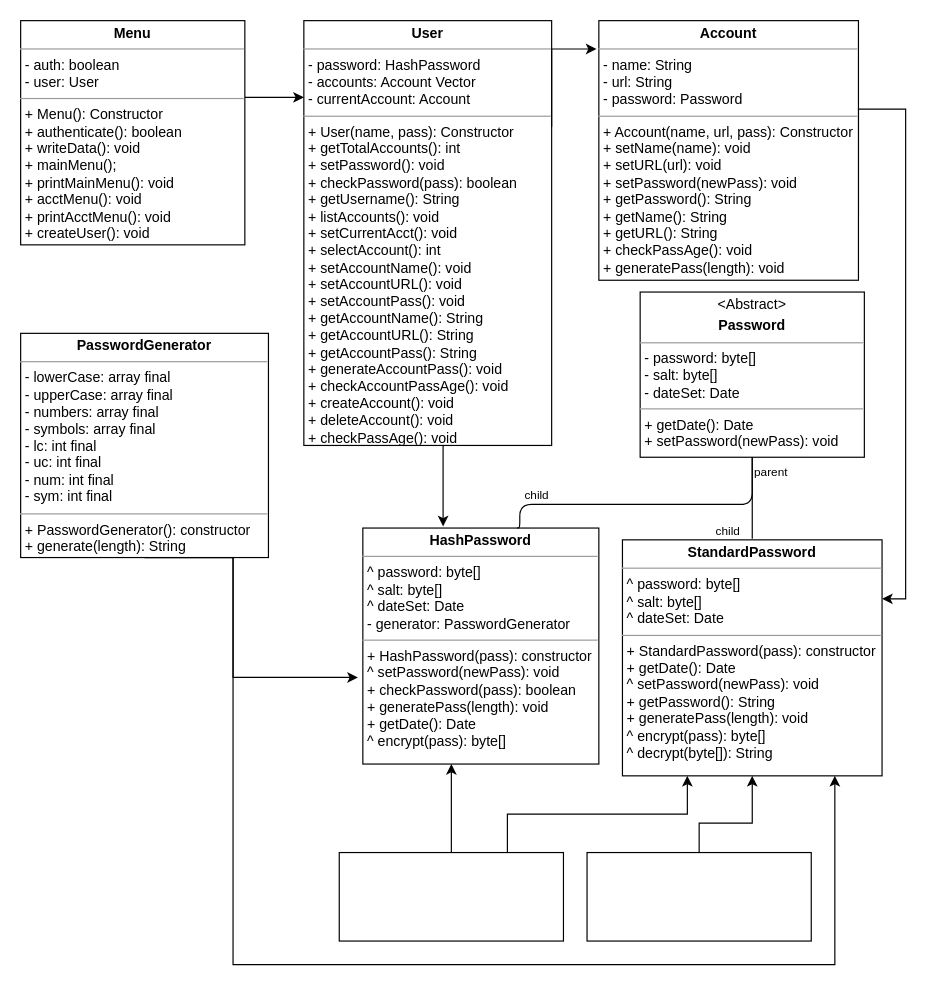
Image size: 936x995. Some labels were removed from this diagram. Each missing label, with the centre of its shape:
<Interface> Decryptable + decrypt(byte[]): String: (698,896)
<Interface> Encryptable + encrypt(pass): byte[]: (450,896)
